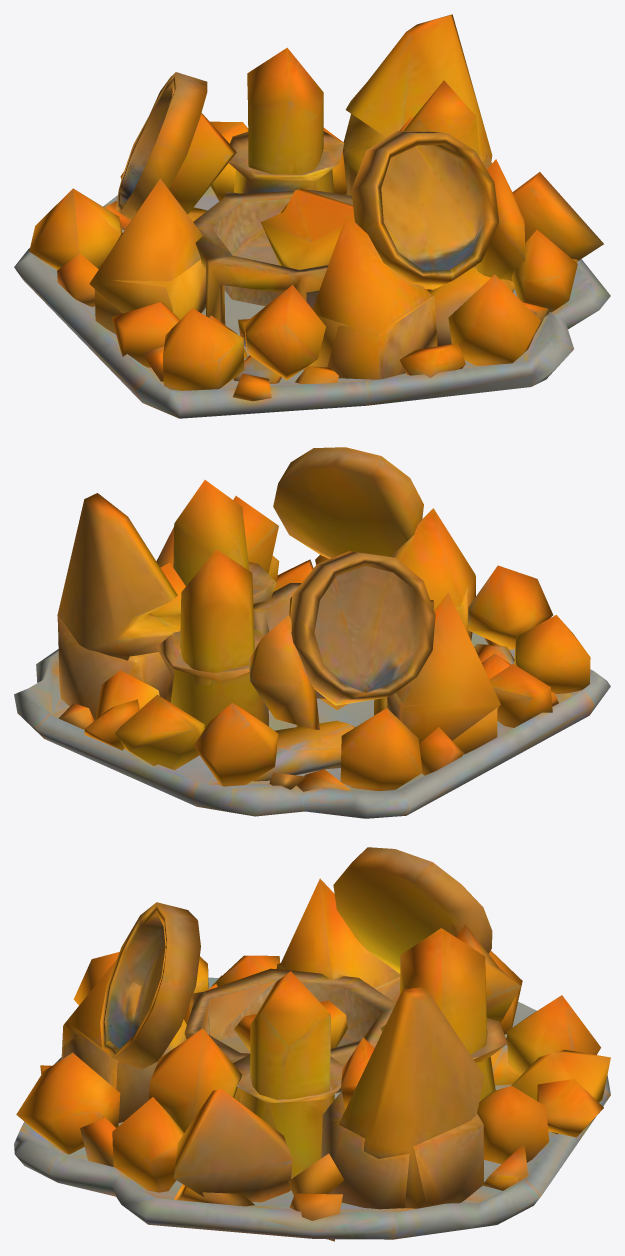
The model's file is salvage-sunstone.glb.
The picture shows the model from 3 angles, top to bottom: view 1: azimuth 30°, elevation 25°; view 2: azimuth 150°, elevation 25°; view 3: azimuth 270°, elevation 25°; orthographic projection. The views are drawn at different scales.
Visible parts, largest first — view 1: salvage-sunstone; view 2: salvage-sunstone; view 3: salvage-sunstone.
Part boxes in pixels (<box>): salvage-sunstone: <box>14,14,610,418</box>; salvage-sunstone: <box>14,447,610,818</box>; salvage-sunstone: <box>14,847,610,1241</box>.
Size of the model in its own units: 0.8319 by 0.3544 by 0.85.
1 material, 1 textured.
